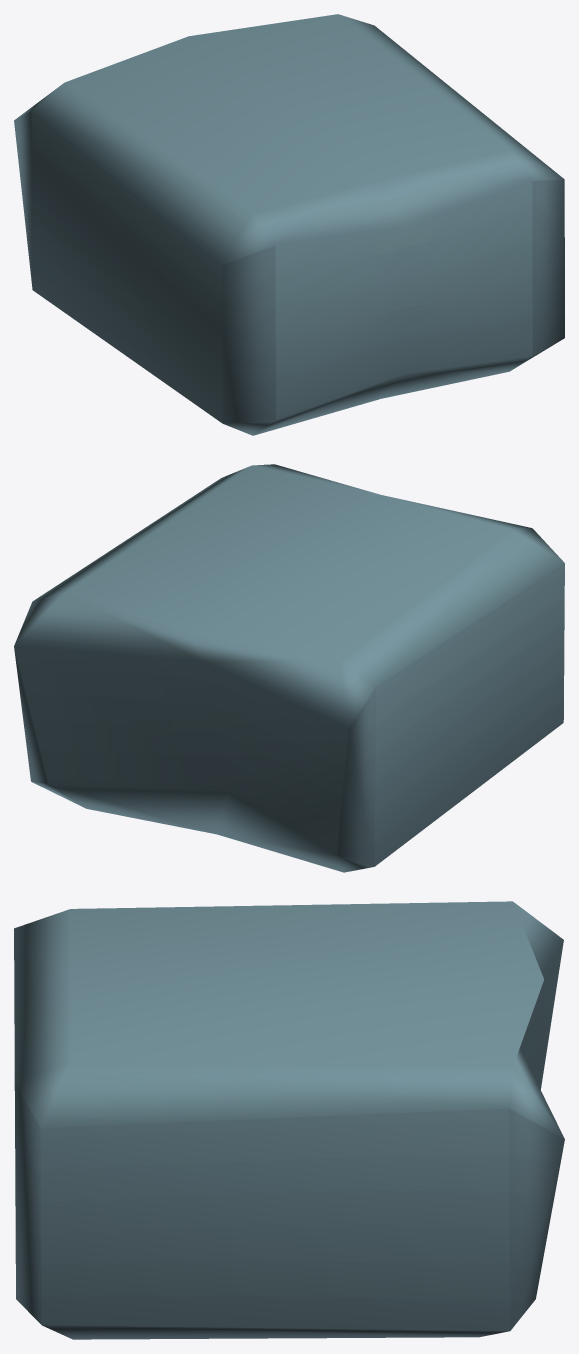
The model's file is Modular_Dungeon_Loose_Brick2.fbx.
The picture shows the model from 3 angles, top to bottom: view 1: azimuth 30°, elevation 25°; view 2: azimuth 150°, elevation 25°; view 3: azimuth 270°, elevation 25°; orthographic projection. The views are drawn at different scales.
Visible parts, largest first — view 1: Loose_Brick2; view 2: Loose_Brick2; view 3: Loose_Brick2.
Part boxes in pixels (bbox=[...]): Loose_Brick2: bbox=[14, 14, 564, 435]; Loose_Brick2: bbox=[14, 464, 564, 872]; Loose_Brick2: bbox=[14, 901, 564, 1339].
Size of the model in its own units: 1.23 by 0.7848 by 1.38.
Materials: 1 (1 with a texture image).
